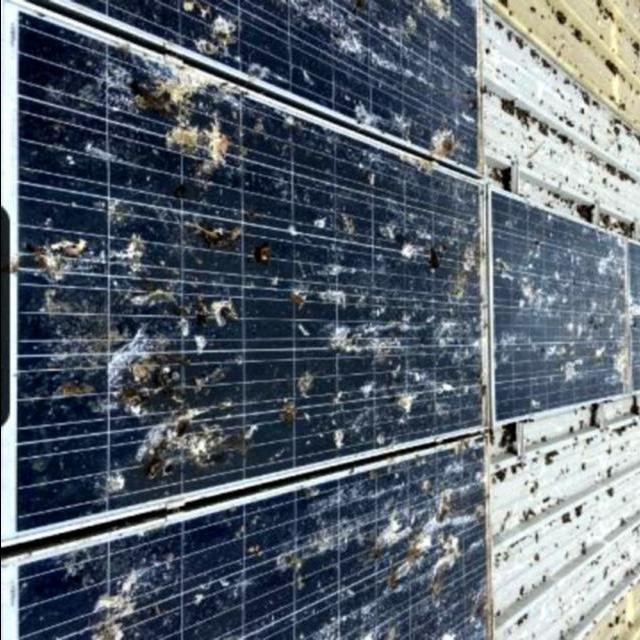soiled: (0, 1, 478, 640), (491, 202, 639, 437)
